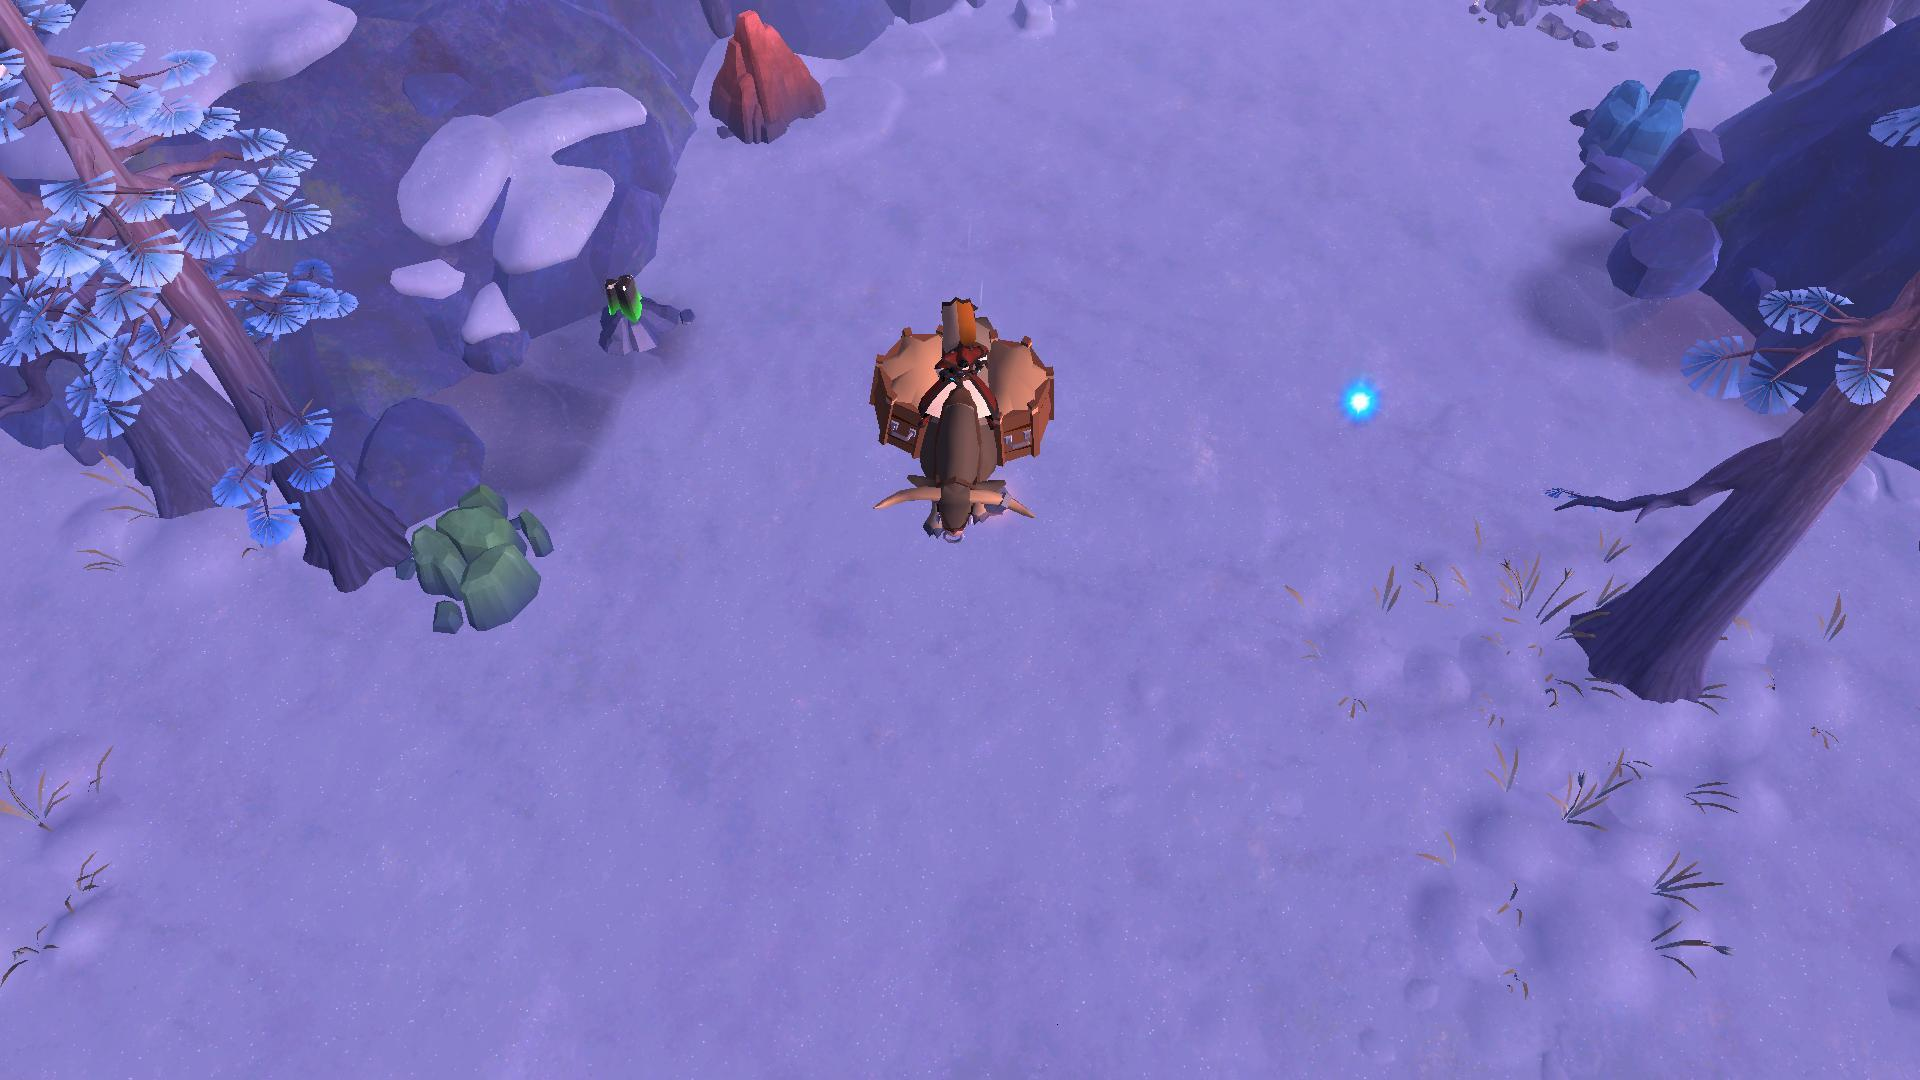ore_t3: (597, 269, 645, 323)
rock_t3: (385, 488, 562, 636)
rock_t4: (1592, 59, 1701, 173)
rock_t5: (698, 0, 828, 144)
